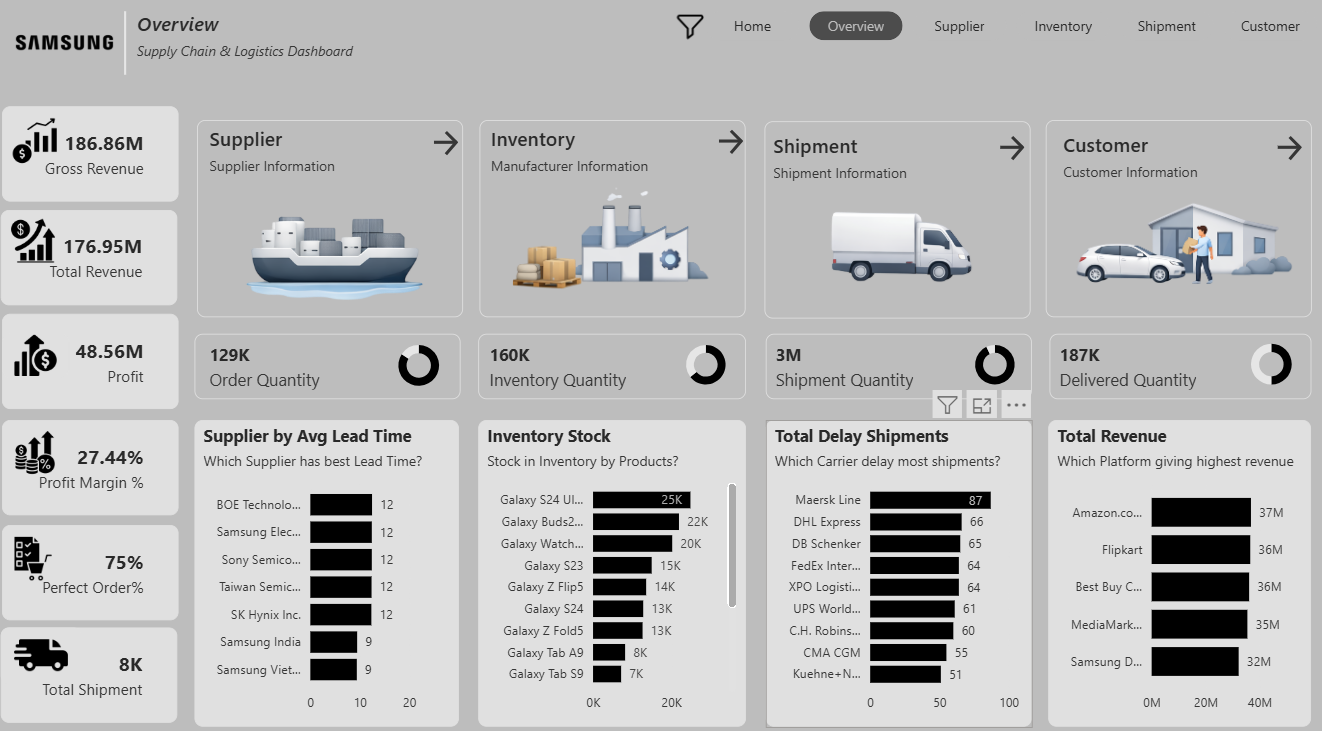

The dashboard page shown, as its layout file describes it:
{"tool":"powerbi","page":{"name":"Overview","canvas":[1280,720],"ordinal":1},"visuals":[{"type":"shape","box":[192.5,125,257,190],"z":0},{"type":"shape","box":[466.2,125,257,190],"z":1000},{"type":"shape","box":[1012.5,125,257,190],"z":2000},{"type":"image","box":[212.1,194.8,217.9,109.6],"z":3000},{"type":"image","box":[1033,180.3,236.6,124.1],"z":4000},{"type":"image","box":[476.1,158.7,217.9,154.4],"z":5000},{"type":"actionButton","box":[416.2,131.2,50,32.5],"z":6000},{"type":"actionButton","box":[1230,136.2,50,32.5],"z":7000},{"type":"actionButton","box":[691.2,130,50,32.5],"z":8000},{"type":"shape","title":"Supplier","box":[205,130,201.2,51.2],"z":9000},{"type":"shape","title":"Customer","box":[1028.8,136.2,201.2,51.2],"z":10000},{"type":"shape","title":"Inventory","box":[476.2,130,201.2,51.2],"z":11000},{"type":"shape","title":"Overview","box":[135,18.8,210,62.5],"z":12000},{"type":"shape","box":[741.2,126.2,257,190],"z":13000},{"type":"image","box":[792.1,191.9,155.8,101],"z":14000},{"type":"shape","title":"Shipment","box":[748.8,137.5,201.2,51.2],"z":15000},{"type":"actionButton","box":[962.5,136.2,50,32.5],"z":16000},{"type":"shape","box":[53.8,20,138.8,61.2],"z":17000},{"type":"image","box":[11.2,8.8,103.8,83.8],"z":18000},{"type":"cardVisual","fields":{"Data":["Measures_Table.Total_Revenue"]},"box":[3.6,212.3,170.1,91.7],"z":19000},{"type":"cardVisual","fields":{"Data":["Measures_Table.Profit"]},"box":[4.8,312.5,170,92],"z":20000},{"type":"cardVisual","fields":{"Data":["Measures_Table.Profit Margin %"]},"box":[4.8,415,170,92],"z":21000},{"type":"cardVisual","fields":{"Data":["Measures_Table.Perfect Order %"]},"box":[4.8,516.4,170,92],"z":22000},{"type":"cardVisual","fields":{"Data":["Sum(fact_sales.gross_revenue)"]},"box":[4.8,112.2,170,92],"z":23000},{"type":"cardVisual","fields":{"Data":["Measures_Table.Total_Shipment"]},"box":[3.6,615.3,170,92],"z":24000},{"type":"shape","box":[190.4,331.8,256.8,63.5],"z":25000},{"type":"shape","box":[464.6,331.8,258.3,63.5],"z":26000},{"type":"shape","box":[741.6,331.8,256.8,63.5],"z":27000},{"type":"shape","box":[1015.7,331.8,252.5,63.5],"z":28000},{"type":"cardVisual","fields":{"Data":["Measures_Table.order_Qty"]},"box":[176,323.2,170.2,80.8],"z":29000},{"type":"cardVisual","fields":{"Data":["Measures_Table.Inventory_Value"]},"box":[445.8,323.2,199.1,80.8],"z":30000},{"type":"cardVisual","fields":{"Data":["Measures_Table.Total Shipment Quantity"]},"box":[722.8,323.2,212.1,80.8],"z":31000},{"type":"cardVisual","fields":{"Data":["Measures_Table.Total Delivered Quantity"]},"box":[996.9,323.2,265.5,80.8],"z":32000},{"type":"clusteredBarChart","title":"Supplier by Avg Lead Time","fields":{"Y":["Measures_Table.Avg_Lead_Time"],"Category":["dim_supplier.supplier_name"]},"box":[190.4,415.5,255.4,295.8],"z":33000},{"type":"clusteredBarChart","title":"Inventory Stock","fields":{"Category":["dim_product.product_name"],"Y":["Measures_Table.Inventory Quantity"]},"box":[464.6,415.5,258.3,295.8],"z":34000},{"type":"clusteredBarChart","title":"Total Delay Shipments","fields":{"Y":["Measures_Table.Total Delay"],"Category":["fact_shipment.carrier"]},"box":[741.6,415.5,256.8,295.8],"z":35000},{"type":"clusteredBarChart","title":"Total Revenue ","fields":{"Y":["Measures_Table.Total Revenue"],"Category":["dim_customer.customer_name"]},"box":[1014.3,415.5,253.9,295.8],"z":36000},{"type":"donutChart","fields":{"Y":["Measures_Table.Inventory Value","Measures_Table.Safety Stock"]},"box":[620.4,333.3,128.4,57.7],"z":37000},{"type":"donutChart","fields":{"Y":["Measures_Table.Total Shipment","Measures_Table.Total Delay"]},"box":[852.7,333.3,220.7,57.7],"z":38000},{"type":"donutChart","fields":{"Y":["Measures_Table.Total Delivered Quantity","Measures_Table.Total Qty Delay"]},"box":[1181.6,331.8,98.1,59.2],"z":39000},{"type":"donutChart","fields":{"Y":["Measures_Table.order_Qty","Measures_Table.Defect Rate"]},"box":[321.7,333.3,170.2,59.2],"z":40000},{"type":"image","box":[653.9,16.9,30.2,36.2],"z":41000},{"type":"pageNavigator","box":[684,20.5,596,29],"z":42000},{"type":"image","box":[0,121.9,72.4,47.1],"z":43000},{"type":"image","box":[0,220.8,70,42.2],"z":44000},{"type":"image","box":[4.8,331.8,65.1,42.2],"z":45000},{"type":"image","box":[6,423.5,61.5,45.8],"z":46000},{"type":"image","box":[3.6,615.3,78.4,54.3],"z":47000},{"type":"image","box":[10.9,524.8,48.3,48.3],"z":48000}]}

Visuals, with their boxes in screenshot pixels (x1, y1, x2, y2), scaled from the page's 1280x720 canvas onto the 1322x731 screenshot:
shape: BBox(199, 127, 464, 320)
shape: BBox(481, 127, 747, 320)
shape: BBox(1046, 127, 1311, 320)
image: BBox(219, 198, 444, 309)
image: BBox(1067, 183, 1311, 309)
image: BBox(492, 161, 717, 318)
actionButton: BBox(430, 133, 481, 166)
actionButton: BBox(1270, 138, 1321, 171)
actionButton: BBox(714, 132, 766, 165)
"Supplier" shape: BBox(212, 132, 420, 184)
"Customer" shape: BBox(1063, 138, 1270, 190)
"Inventory" shape: BBox(492, 132, 700, 184)
"Overview" shape: BBox(139, 19, 356, 83)
shape: BBox(766, 128, 1031, 321)
image: BBox(818, 195, 979, 297)
"Shipment" shape: BBox(773, 140, 981, 192)
actionButton: BBox(994, 138, 1046, 171)
shape: BBox(56, 20, 199, 82)
image: BBox(12, 9, 119, 94)
cardVisual - Measures_Table.Total_Revenue: BBox(4, 216, 179, 309)
cardVisual - Measures_Table.Profit: BBox(5, 317, 181, 411)
cardVisual - Measures_Table.Profit Margin %: BBox(5, 421, 181, 515)
cardVisual - Measures_Table.Perfect Order %: BBox(5, 524, 181, 618)
cardVisual - Sum(fact_sales.gross_revenue): BBox(5, 114, 181, 207)
cardVisual - Measures_Table.Total_Shipment: BBox(4, 625, 179, 718)
shape: BBox(197, 337, 462, 401)
shape: BBox(480, 337, 747, 401)
shape: BBox(766, 337, 1031, 401)
shape: BBox(1049, 337, 1310, 401)
cardVisual - Measures_Table.order_Qty: BBox(182, 328, 358, 410)
cardVisual - Measures_Table.Inventory_Value: BBox(460, 328, 666, 410)
cardVisual - Measures_Table.Total Shipment Quantity: BBox(747, 328, 966, 410)
cardVisual - Measures_Table.Total Delivered Quantity: BBox(1030, 328, 1304, 410)
"Supplier by Avg Lead Time" clusteredBarChart: BBox(197, 422, 460, 722)
"Inventory Stock" clusteredBarChart: BBox(480, 422, 747, 722)
"Total Delay Shipments" clusteredBarChart: BBox(766, 422, 1031, 722)
"Total Revenue " clusteredBarChart: BBox(1048, 422, 1310, 722)
donutChart - Measures_Table.Inventory Value x Measures_Table.Safety Stock: BBox(641, 338, 773, 397)
donutChart - Measures_Table.Total Shipment x Measures_Table.Total Delay: BBox(881, 338, 1109, 397)
donutChart - Measures_Table.Total Delivered Quantity x Measures_Table.Total Qty Delay: BBox(1220, 337, 1321, 397)
donutChart - Measures_Table.order_Qty x Measures_Table.Defect Rate: BBox(332, 338, 508, 398)
image: BBox(675, 17, 707, 54)
pageNavigator: BBox(706, 21, 1321, 50)
image: BBox(0, 124, 75, 172)
image: BBox(0, 224, 72, 267)
image: BBox(5, 337, 72, 380)
image: BBox(6, 430, 70, 476)
image: BBox(4, 625, 85, 680)
image: BBox(11, 533, 61, 582)
